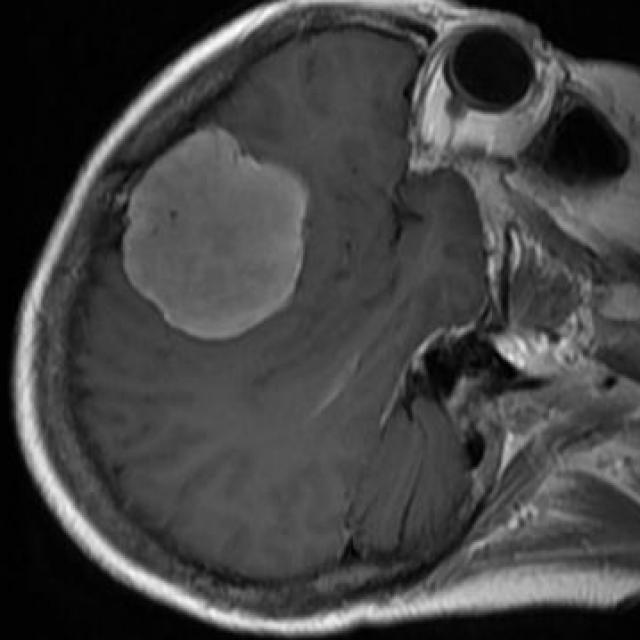meningioma: (121, 125, 307, 342)
